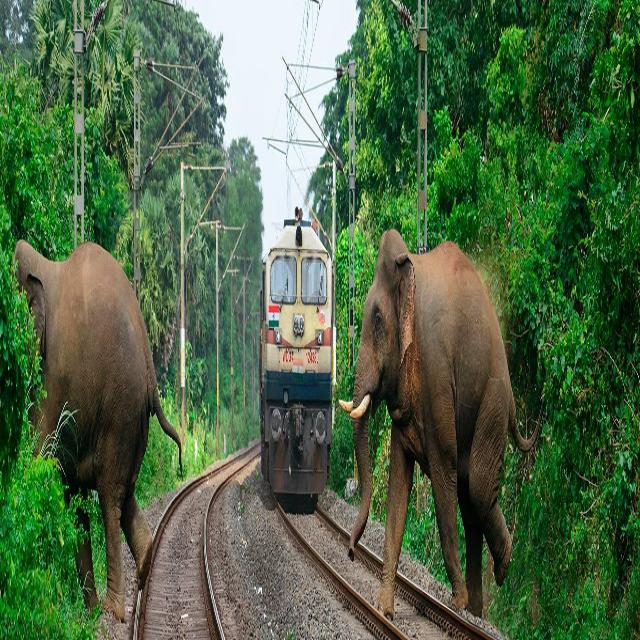Elephant: (341, 217, 533, 634), (3, 217, 185, 635)
